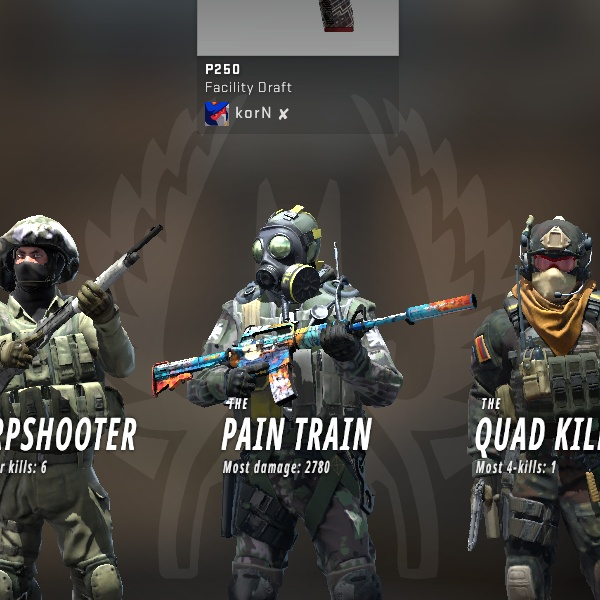ct_body: (168, 207, 384, 591), (427, 185, 588, 600), (2, 199, 158, 600)
ct_head: (506, 201, 596, 316), (0, 205, 91, 309)
